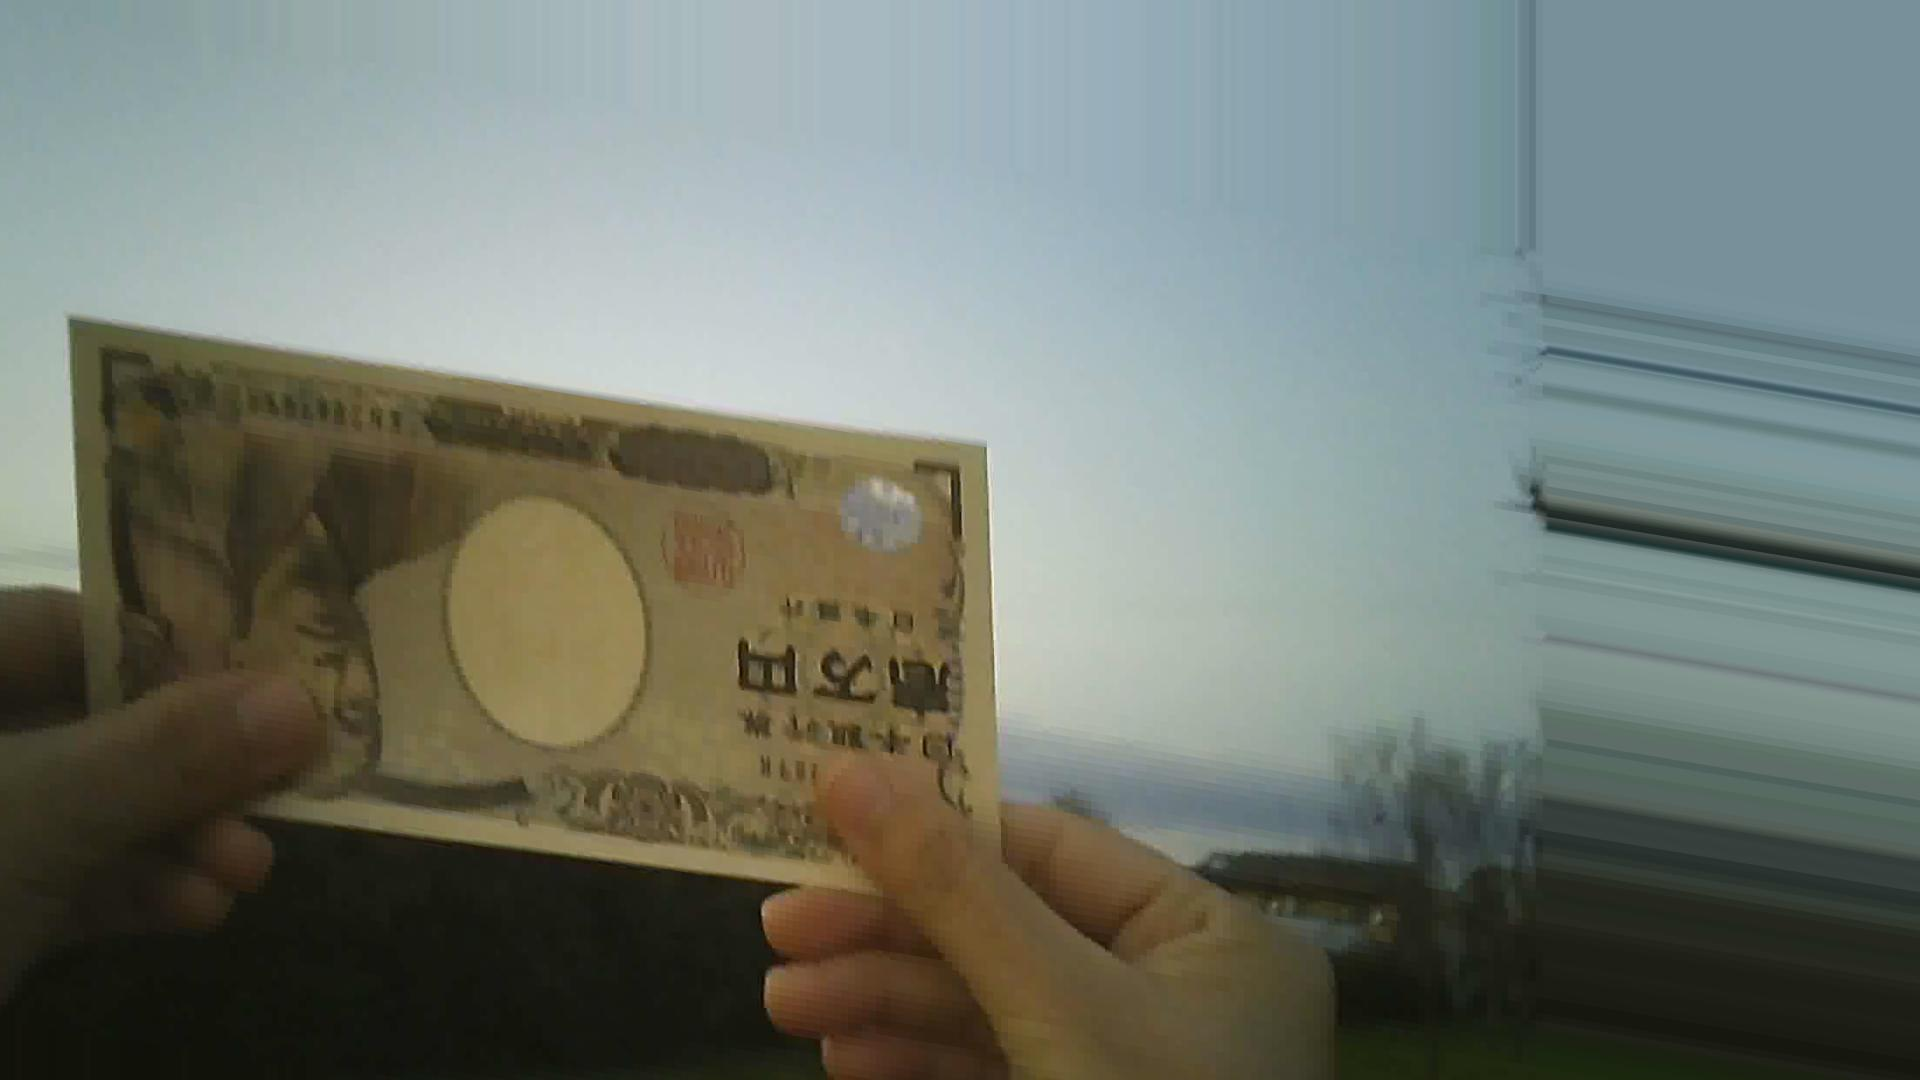10,000 Yen: (16, 274, 1039, 942)
